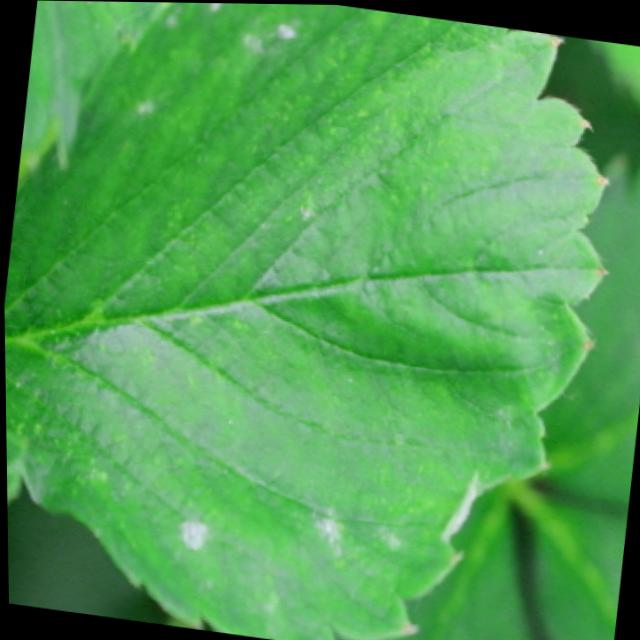Powdery Mildew Leaf: (3, 2, 611, 640)
